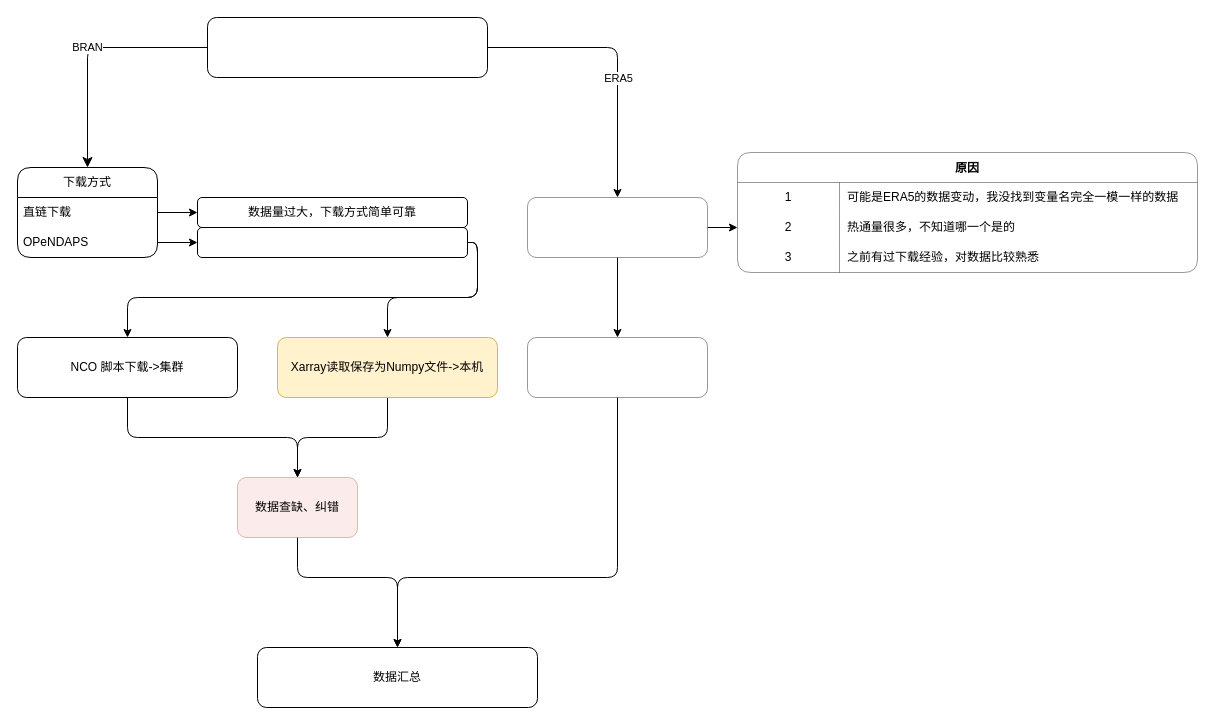
This 1215x725 diagram has some shape labels left out. The shapes that lost their labels are listed below. From the top down, each one's centre as x and y in pixels, then its label:
At point (347, 47): "数据下载".
At point (332, 242): "数据可自定义经纬度，下载方式繁琐且不可靠".
At point (617, 227): "获取方式：官方脚本".
At point (617, 367): "nc文件，批量读取".
